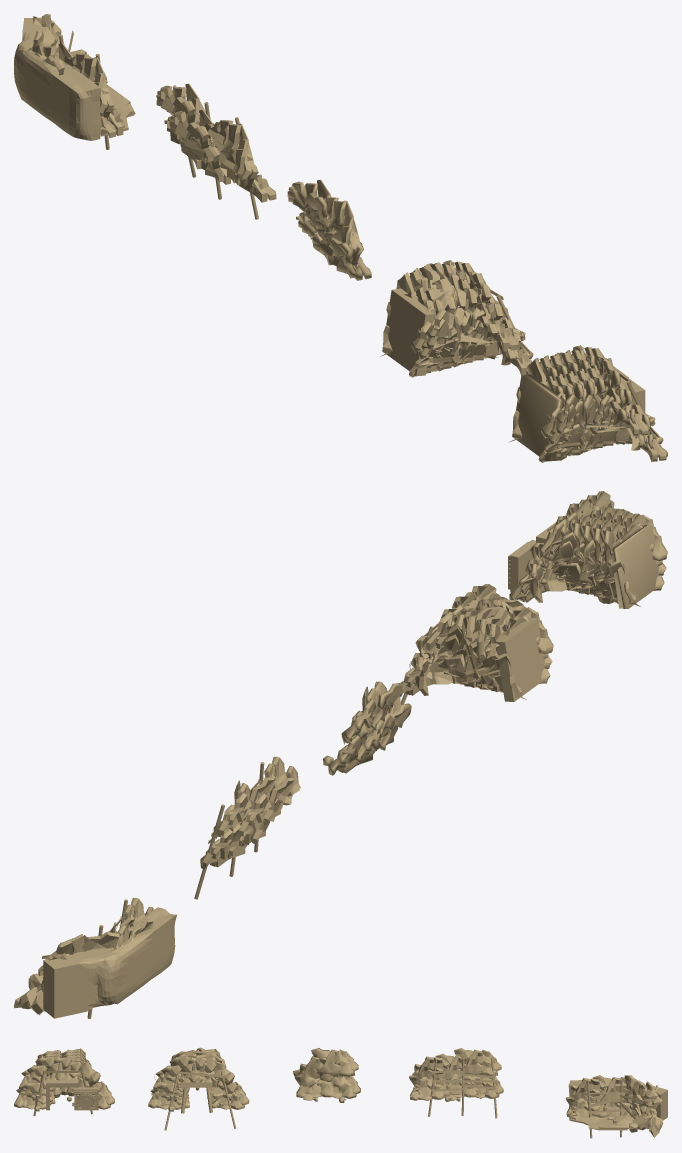
The model's file is walls.fbx.
The picture shows the model from 3 angles, top to bottom: view 1: azimuth 30°, elevation 25°; view 2: azimuth 150°, elevation 25°; view 3: azimuth 270°, elevation 25°; orthographic projection. The views are drawn at different scales.
Parts seen in each view (by area): view 1: depos, mine_gate, wall_corner, wall1, wall2; view 2: depos, mine_gate, wall_corner, wall1, wall2; view 3: wall_corner, depos, mine_gate, wall1, wall2.
Part boxes in pixels (box(x1,y1,x2,y2)): depos: box(509, 345, 667, 462); mine_gate: box(380, 260, 533, 377); wall_corner: box(14, 14, 135, 149); wall1: box(156, 83, 276, 219); wall2: box(287, 179, 371, 280); depos: box(508, 491, 667, 608); mine_gate: box(400, 584, 553, 704); wall_corner: box(14, 897, 177, 1018); wall1: box(194, 756, 300, 899); wall2: box(323, 681, 411, 775); wall_corner: box(565, 1075, 667, 1138); depos: box(14, 1048, 114, 1116); mine_gate: box(148, 1047, 249, 1130); wall1: box(409, 1048, 503, 1118); wall2: box(293, 1048, 360, 1102).
Size of the model in its own units: 945 by 7546 by 1062.
